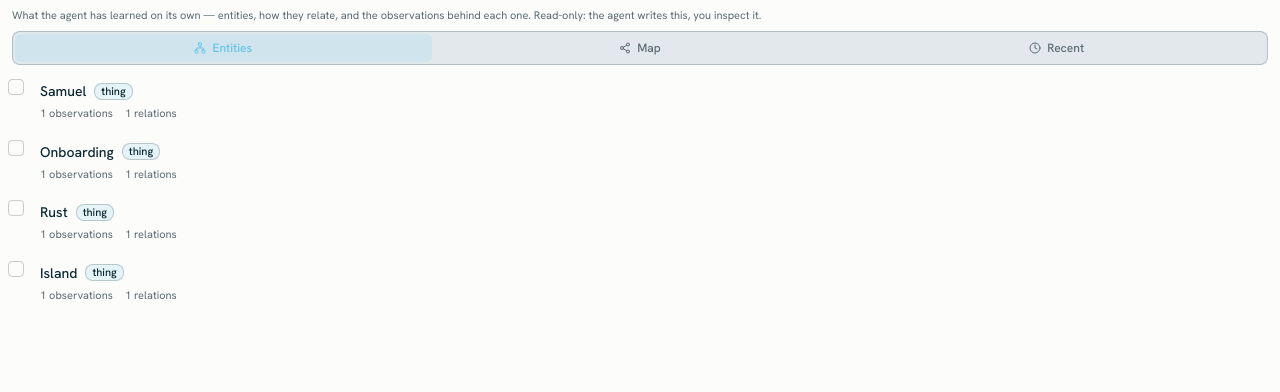
Test case: the graph panel's tabs, after the Search tab was removed › still offers a contents search, on the map
Click the button "Map" at (640, 48), box 432,34 -> 848,62
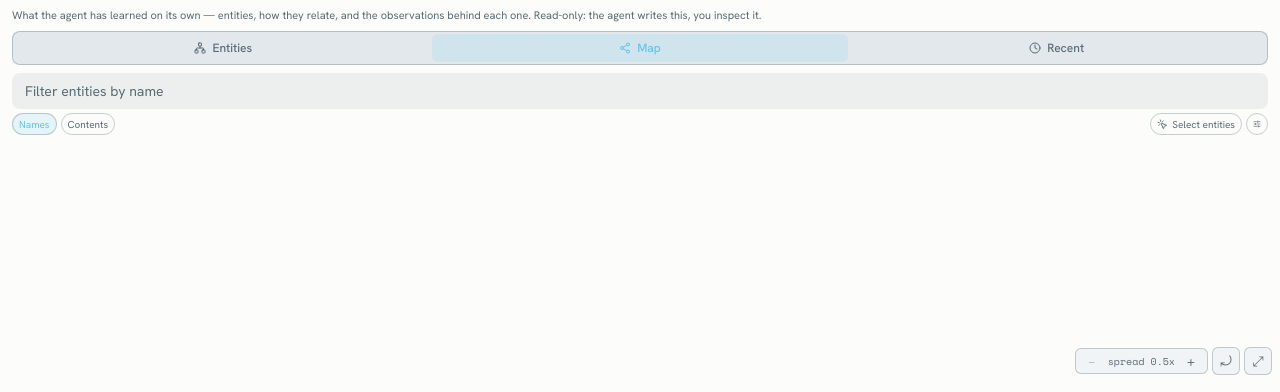
Check: the text "Contents" is shown, box 60,113 -> 115,135
